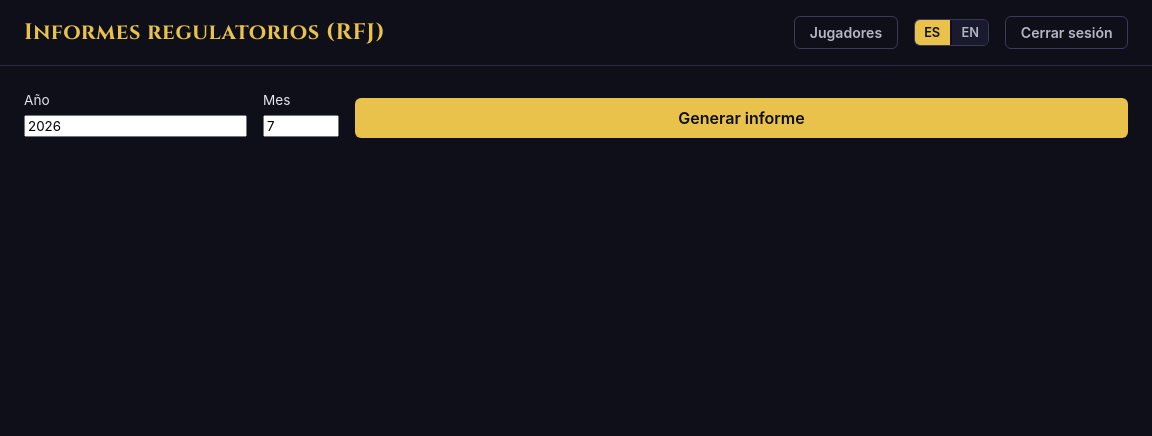
Test: OperatorReportsPage (HU-21) › AC1: generating shows the aggregates and integrity status
This screenshot has width=1152, height=436.
Click the button "Generar informe" at (742, 118), box 355,98 -> 1128,138
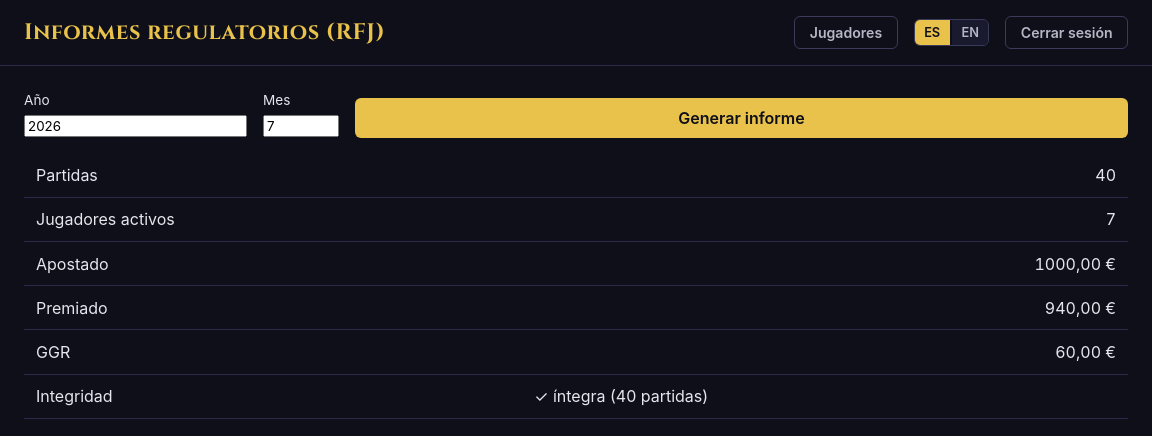
Expected: the text "40" is shown, 522,154 -> 1128,197
Expected: the text "✓ íntegra (40 partidas)" is shown, 522,374 -> 1128,418
